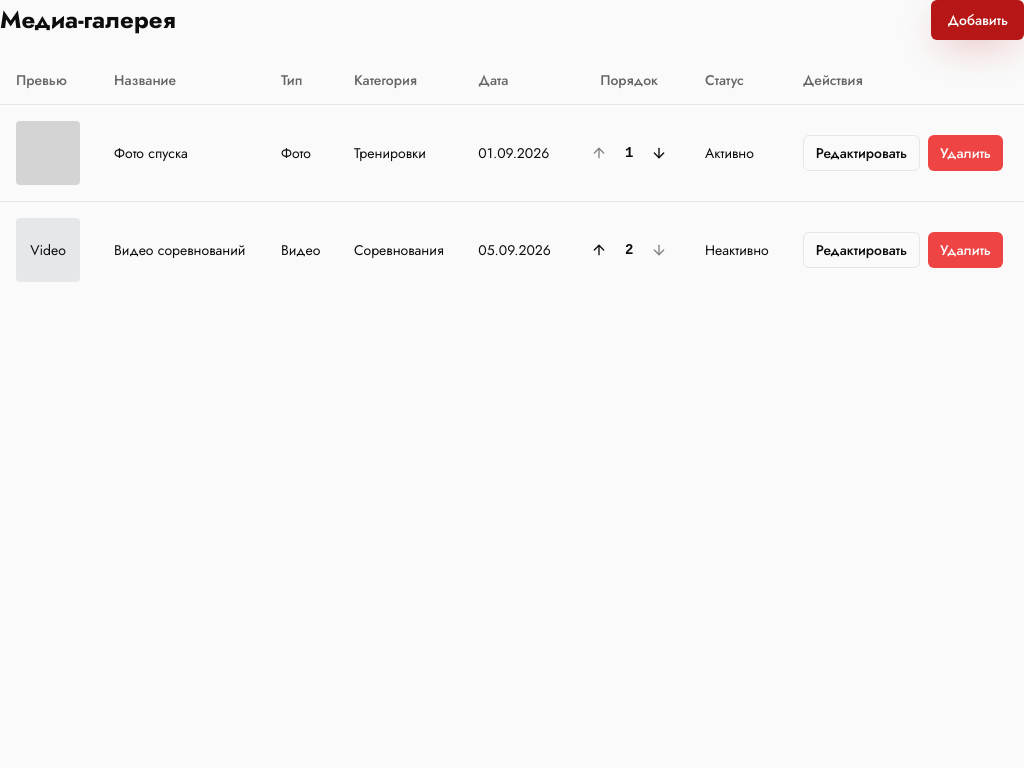
AdminMedia Component › opens edit dialog pre-filled and updates existing media
Later steps or results of the test are not shown.
Expected: the text "Фото спуска" is shown, [98,104,265,201]
What coordinates should you click on to do the following:
click the button "Редактировать" in the row of "Фото спуска"
I would click on:
 (861, 152)
Its box is [803,134,920,170].
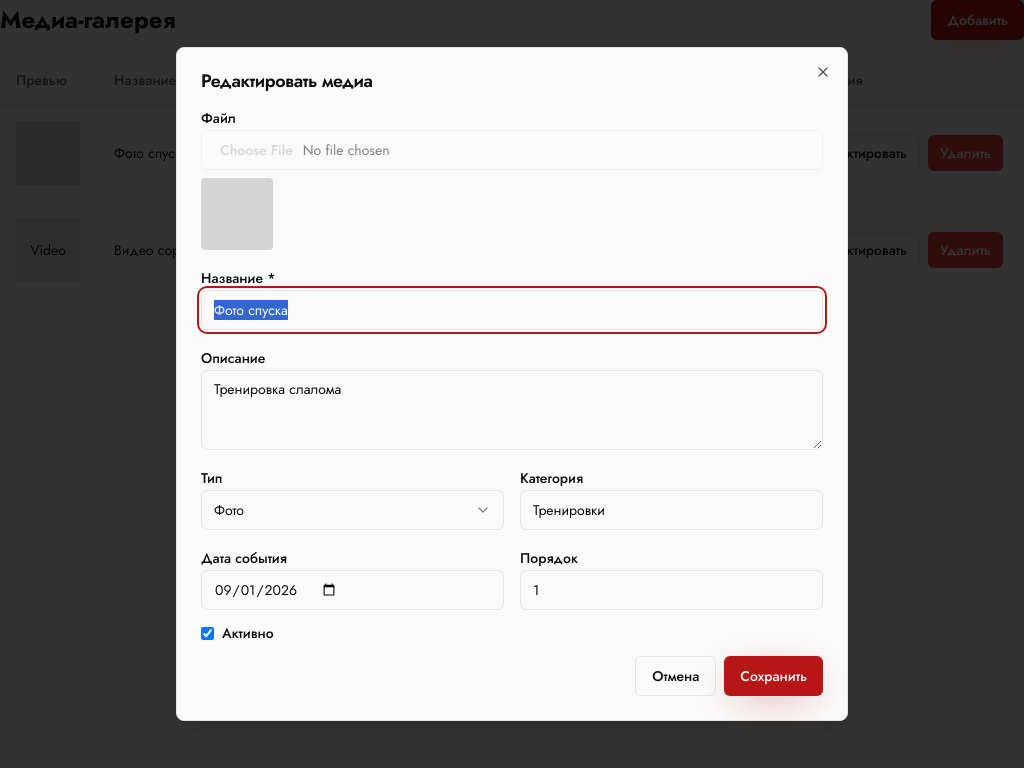
Expected: the heading "Редактировать медиа" is shown, [201,68,373,94]
Expected: the field labelled "Название *" holds "Фото спуска", [201,290,823,330]
